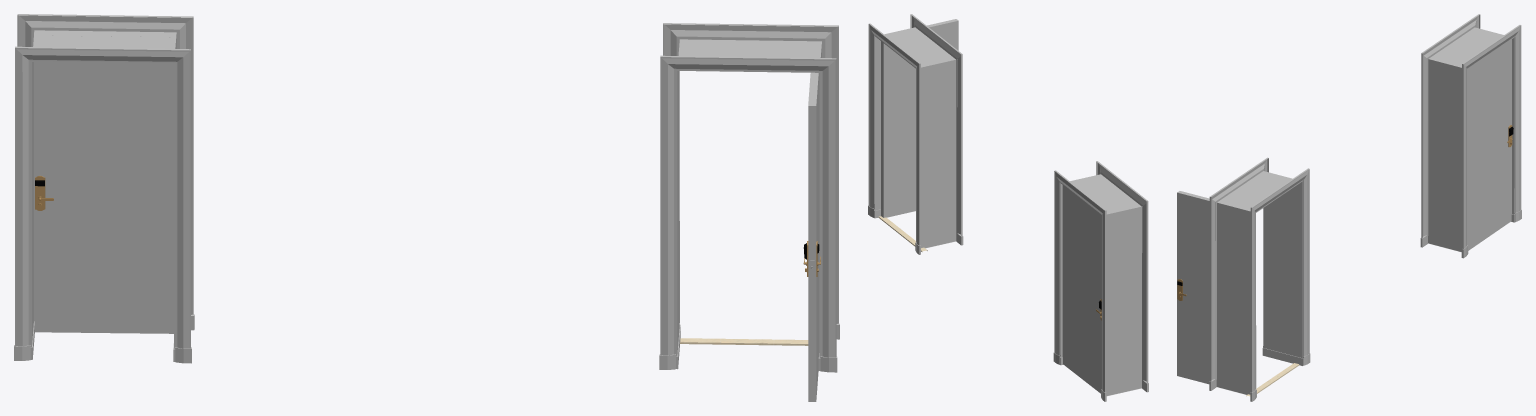
Rendered from SMN_Door_Scene3.fbx.
The picture shows the model from 3 angles, left to right: view 1: azimuth 30°, elevation 25°; view 2: azimuth 150°, elevation 25°; view 3: azimuth 270°, elevation 25°; orthographic projection. The views are drawn at different scales.
Visible parts, largest first — view 1: DoorFrame, Door; view 2: DoorFrame, Door; view 3: DoorFrame, Door.
Boxes of the visible parts, x1,y1,x2,y2 form: DoorFrame: (14,14,839,372); Door: (803,72,820,401); DoorFrame: (868,14,1148,401); Door: (881,19,958,217); DoorFrame: (1209,14,1521,401); Door: (1177,191,1209,384).
Bounding box in the file's own units: 496 × 231 × 371.
